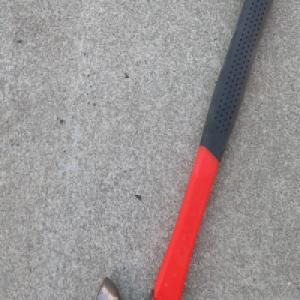Hammer: (93, 0, 272, 300)
